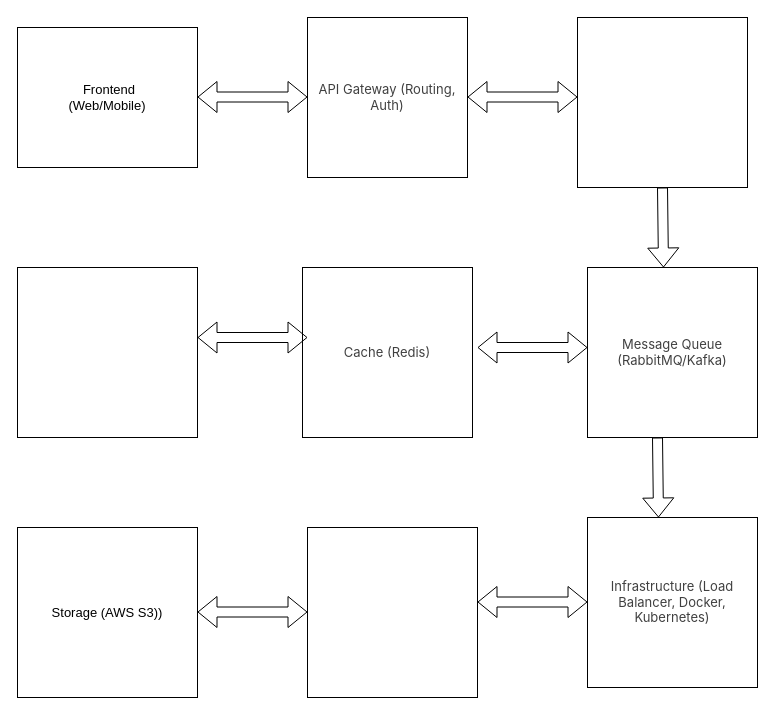
Image size: 775x715. Some labels were removed from this diagram. Each missing label, with the centre of its shape:
"Database (PostgreSQL)" goes at (107,352).
"Microservices (User, Patient, Prescription, Vital Reports, Audit Logs)" goes at (662,102).
"Third-Party Integrations (Payment, Email/SMS)" goes at (392,612).
